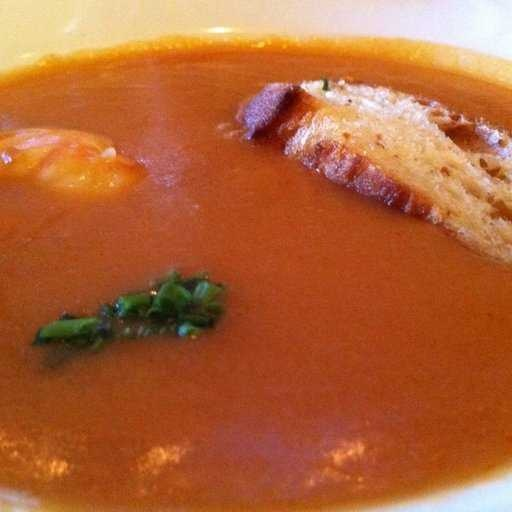soup: (11, 26, 488, 504)
